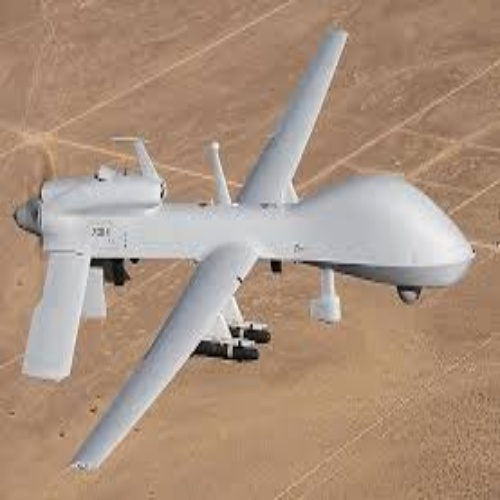uav402: (8, 26, 479, 477)
